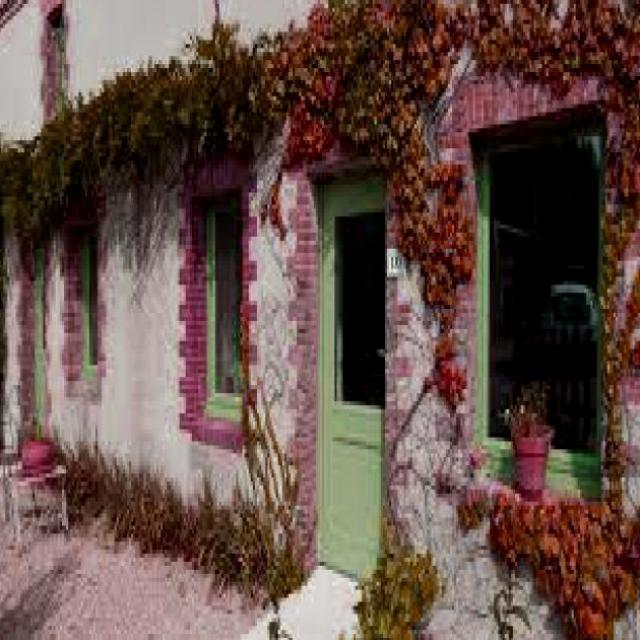door: (314, 170, 387, 582)
